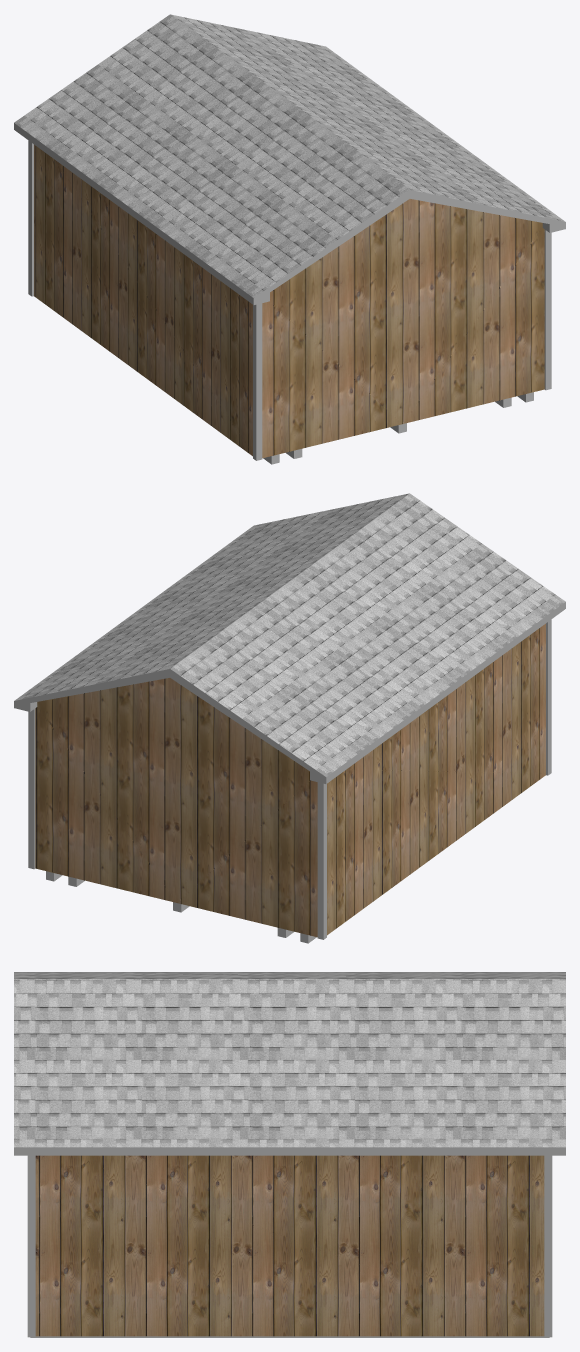
File: Classic A-Frame_12x16.obj
The picture shows the model from 3 angles, top to bottom: view 1: azimuth 30°, elevation 25°; view 2: azimuth 150°, elevation 25°; view 3: azimuth 270°, elevation 25°; orthographic projection. The views are drawn at different scales.
Visible parts, largest first — view 1: Shed, Roof, Sides, Trim, Floor; view 2: Shed, Roof, Sides, Trim, Floor; view 3: Roof, Shed, Sides, Trim, Floor.
Boxes of the visible parts, x1,y1,x2,y2 form: Shed: [34, 144, 544, 458]; Roof: [14, 14, 565, 297]; Sides: [14, 123, 565, 304]; Trim: [28, 140, 551, 460]; Floor: [263, 392, 533, 464]; Shed: [35, 623, 545, 937]; Roof: [14, 493, 565, 776]; Sides: [14, 602, 565, 783]; Trim: [28, 619, 551, 939]; Floor: [46, 871, 316, 943]; Roof: [14, 972, 565, 1147]; Shed: [35, 1155, 544, 1336]; Sides: [14, 1147, 565, 1155]; Trim: [27, 1155, 552, 1337]; Floor: [30, 1336, 549, 1337].
Bounding box in the file's own units: 3.9 × 2.96 × 5.18.
